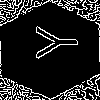Y: (25, 25, 78, 59)
